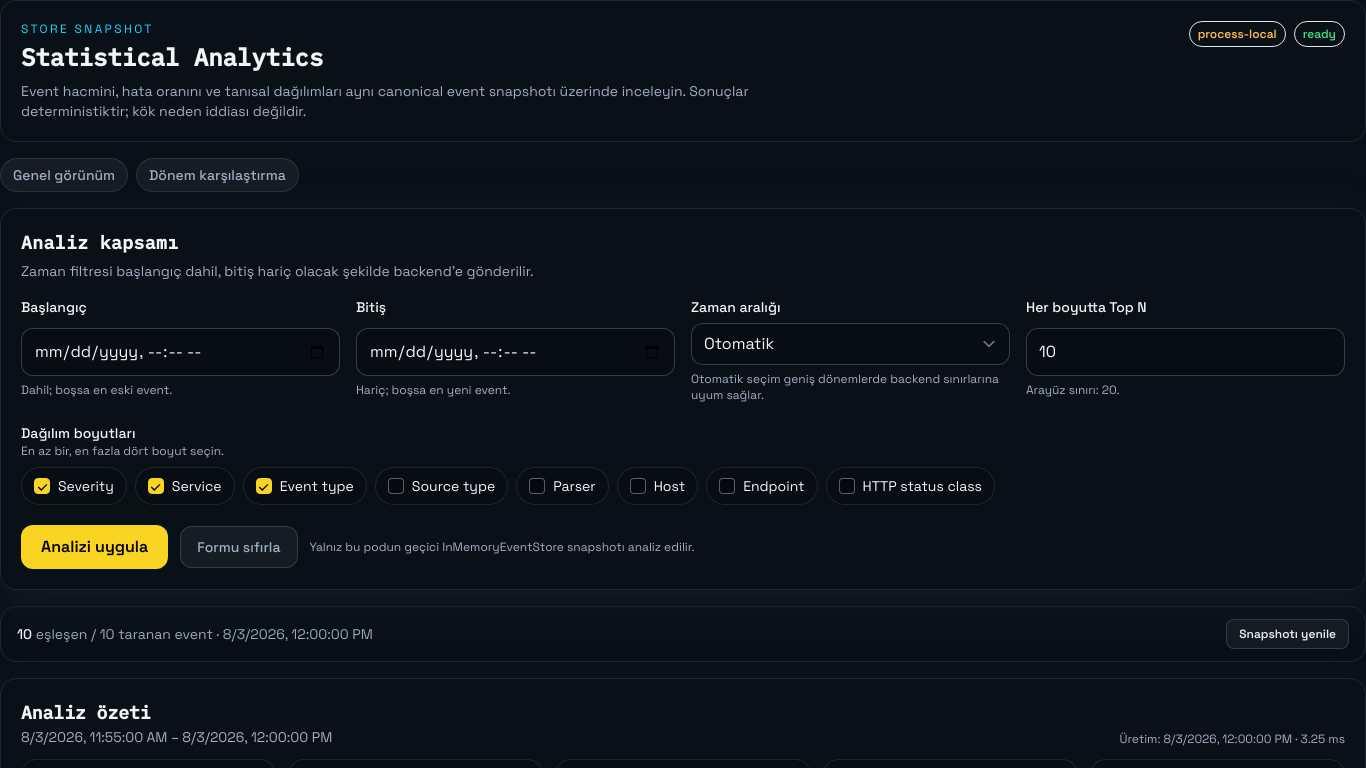
Test: StatisticalAnalysisPage › does not present retained data as ready when a snapshot refresh fails
The width and height of the screenshot is (1366, 768).
Expected: the heading "Analiz özeti" is shown, [21, 701, 151, 724]
What coordinates should you click on to do the following:
click the button "Snapshotı yenile"
I would click on:
 (1288, 634)
Its box is [1226, 619, 1349, 649].
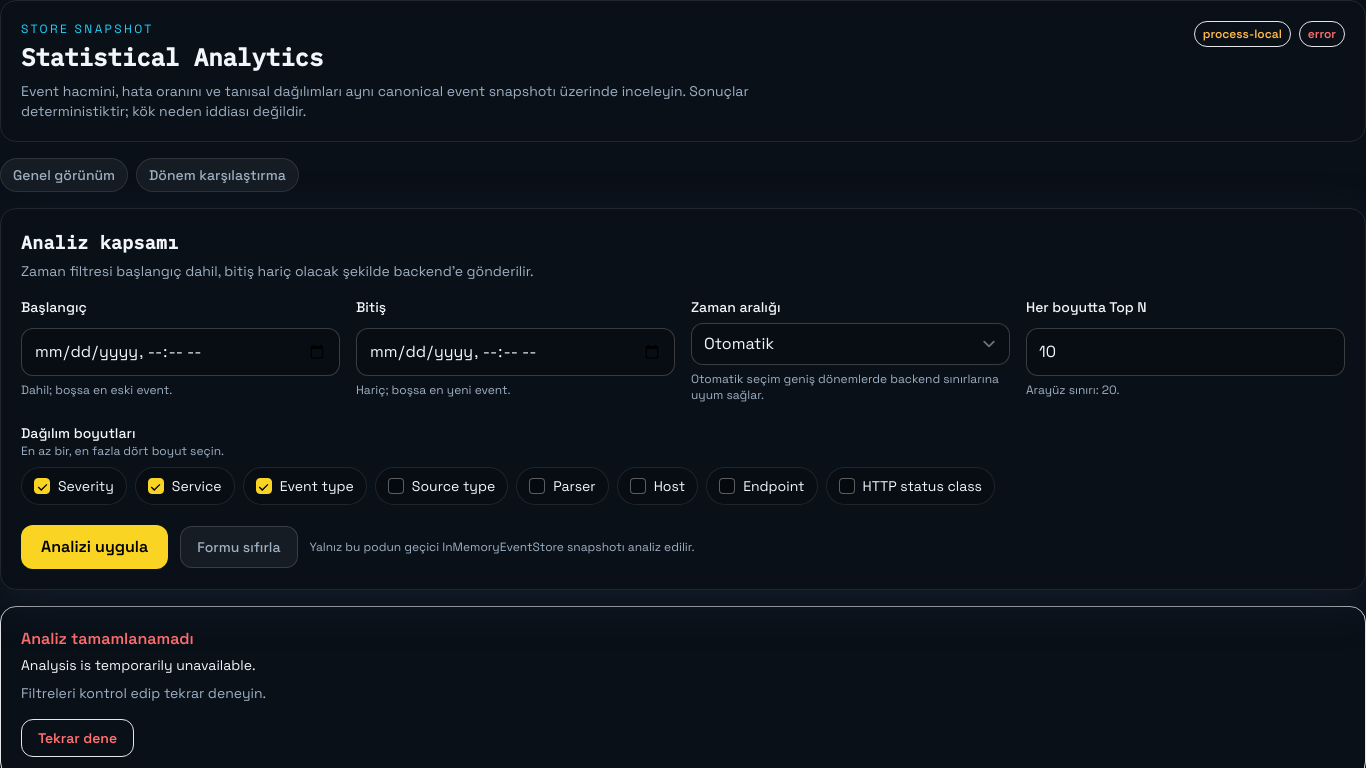
Result: the message shows "Analiz tamamlanamadı" at [21, 628, 194, 649]
Result: the heading "Analiz özeti" is gone
Result: the text "error" is shown at [1299, 21, 1345, 47]
